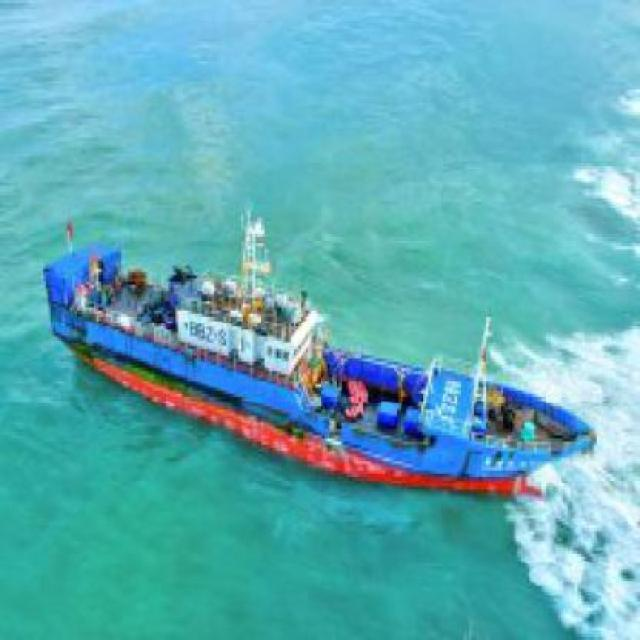fish-b: (25, 200, 617, 526)
